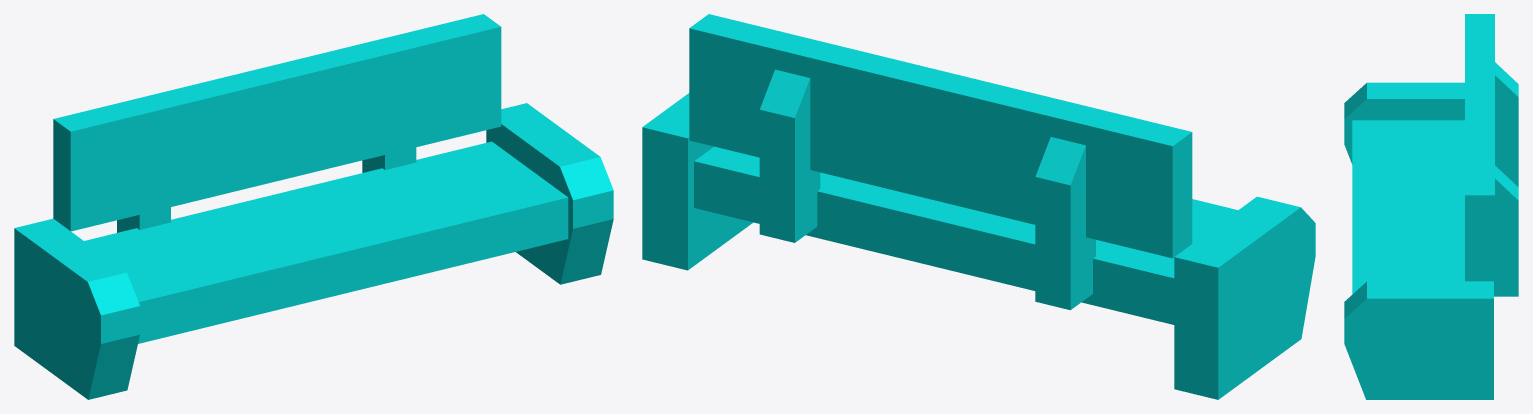
The model's file is SM_Prop_Bench_Seat_01_Collision.fbx.
3 views of the same model, side by side, from view 1: azimuth 30°, elevation 25°; view 2: azimuth 150°, elevation 25°; view 3: azimuth 270°, elevation 25° (orthographic). The views are drawn at different scales.
Parts seen in each view (by area): view 1: SM_Prop_Bench_Seat_01_Collision; view 2: SM_Prop_Bench_Seat_01_Collision; view 3: SM_Prop_Bench_Seat_01_Collision.
Part boxes in pixels (x1,y1,x2,y2): SM_Prop_Bench_Seat_01_Collision: [14, 14, 613, 399]; SM_Prop_Bench_Seat_01_Collision: [642, 14, 1315, 399]; SM_Prop_Bench_Seat_01_Collision: [1344, 14, 1518, 399].
Size of the model in its own units: 244 by 98.67 by 83.51.
